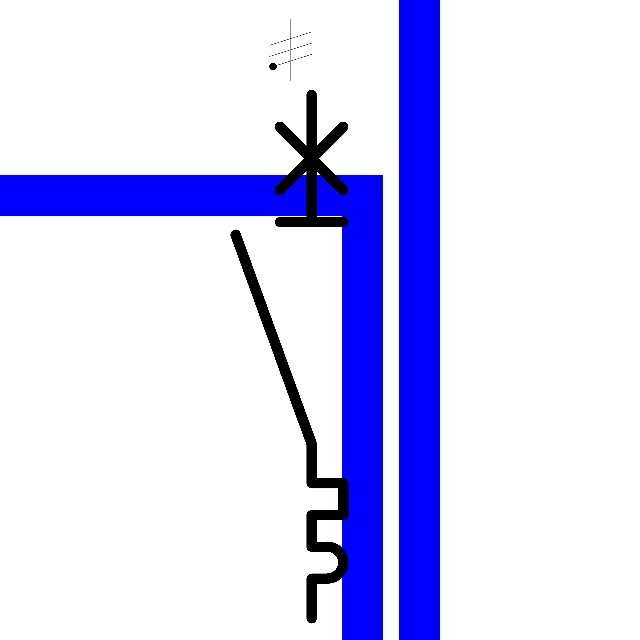interruptor_termomagnetico: (222, 81, 357, 632)
